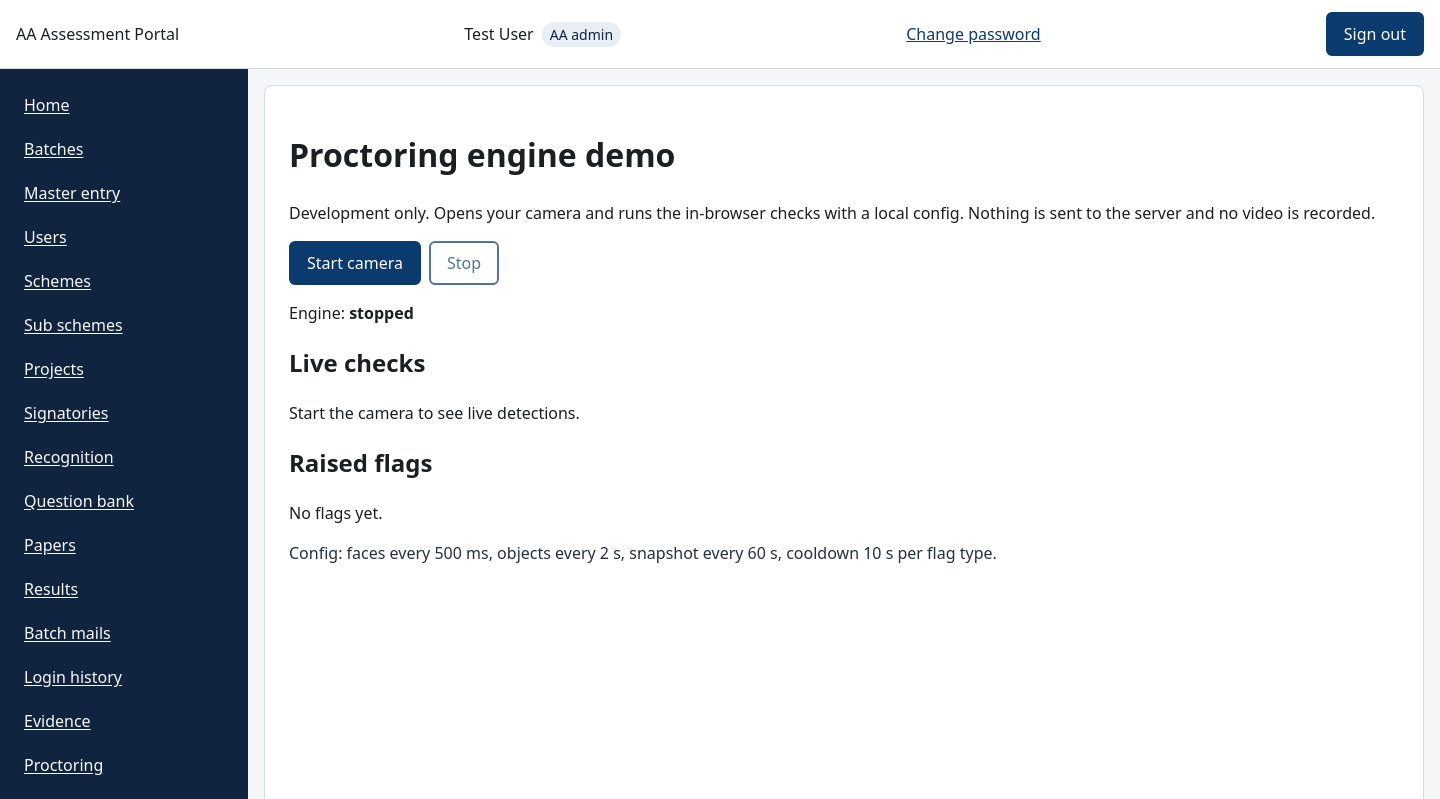
Test: explains a refused camera permission
Click the button "Start camera".
click(355, 263)  # box [289, 241, 421, 285]
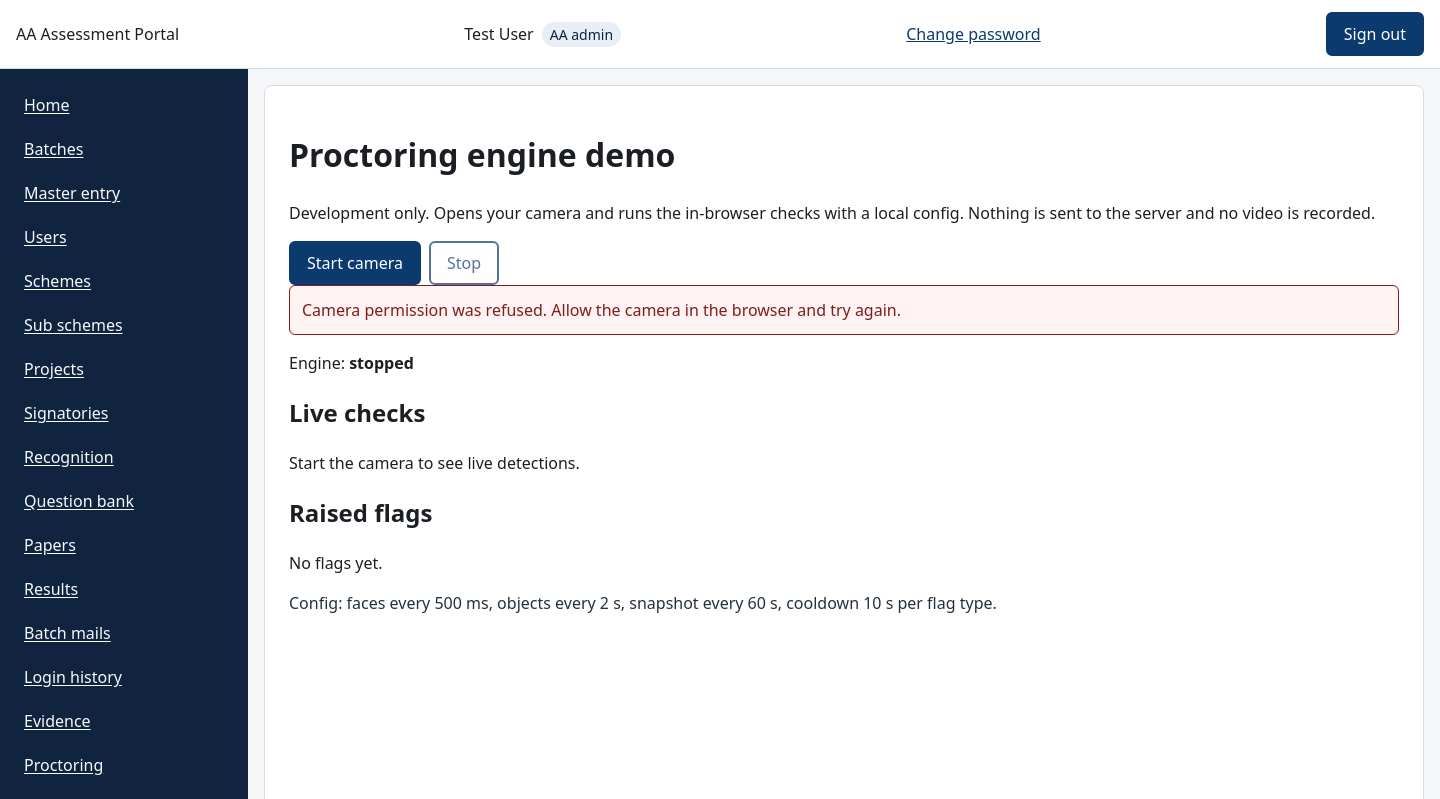
Expected: the message "Camera permission was refused. Allow the camera in the browser and try again." is shown, [289, 285, 1399, 335]
